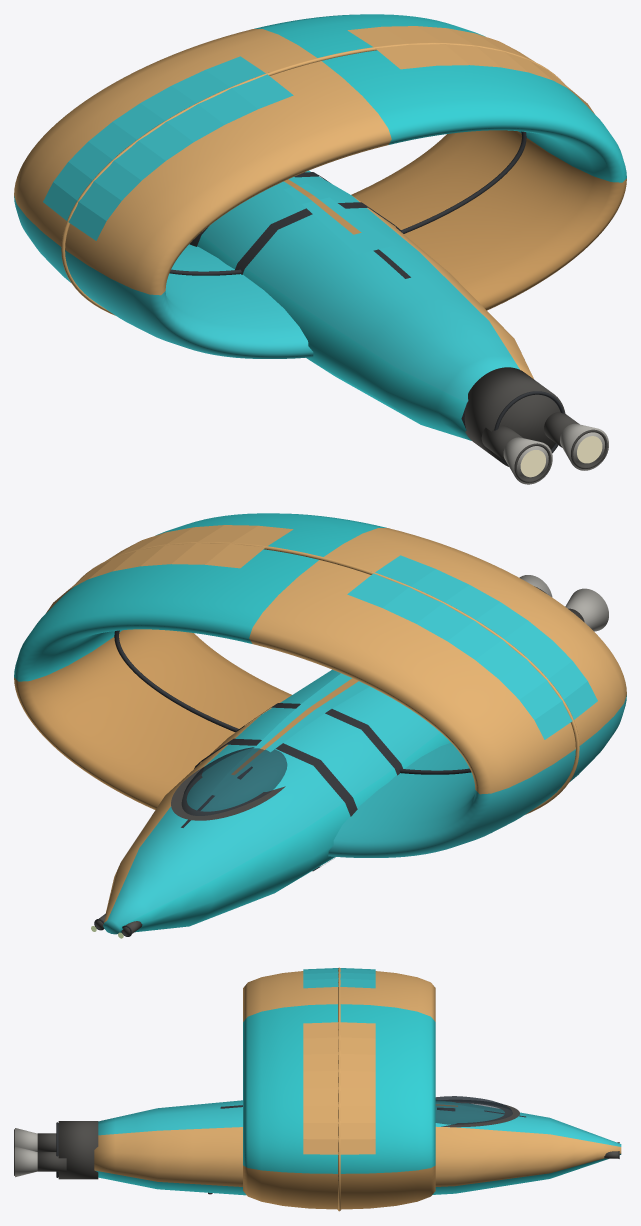
File: Ship_Hooper_508807.glb
The picture shows the model from 3 angles, top to bottom: view 1: azimuth 30°, elevation 25°; view 2: azimuth 150°, elevation 25°; view 3: azimuth 270°, elevation 25°; orthographic projection. The views are drawn at different scales.
Parts seen in each view (by area): view 1: Hoop_MainStructuralRing_YAxisHole_ElongatedY_LowerMidpointAt, Fuselage_MainCenteredHull_CenterOfMassAtOrigin, PaintHoopQuadrant_02_InsetPanel, PaintHoopQuadrant_01_InsetPanel, EngineBlock_AftHullIntegratedMountPlate, PaintFuselage_DorsalPrimaryBlade, Hoop_OuterArmorRaisedRim, Hoop_InnerLip_DarkInsetRing, EngineEmitter, FuselagePanelRing_02_InsetBand, EngineBell_Left_AftHullBurnishedNozzle, EngineBell_Right_AftHullBurnishedNozzle (+1 smaller); view 2: Hoop_MainStructuralRing_YAxisHole_ElongatedY_LowerMidpointAt, Fuselage_MainCenteredHull_CenterOfMassAtOrigin, PaintHoopQuadrant_02_InsetPanel, PaintHoopQuadrant_01_InsetPanel, CanopyGlass_LowForwardPodDome, PaintFuselage_DorsalPrimaryBlade, Hoop_OuterArmorRaisedRim, CanopyFrame_LowInsetOvalRim, FuselagePanelRing_04_InsetBand, Hoop_InnerLip_DarkInsetRing, EngineBell_Left_AftHullBurnishedNozzle, FuselagePanelRing_02_InsetBand (+1 smaller); view 3: Hoop_MainStructuralRing_YAxisHole_ElongatedY_LowerMidpointAt, Fuselage_MainCenteredHull_CenterOfMassAtOrigin, PaintHoopQuadrant_01_InsetPanel, EngineBlock_AftHullIntegratedMountPlate, CanopyGlass_LowForwardPodDome, PaintHoopQuadrant_02_InsetPanel, Hoop_OuterArmorRaisedRim, CanopyFrame_LowInsetOvalRim, EngineBell_Right_AftHullBurnishedNozzle, EngineThroat_Right_AftHullDarkSocket, EngineBell_Left_AftHullBurnishedNozzle, EngineThroat_Left_AftHullDarkSocket.
Boxes of the visible parts, <box> form: Hoop_MainStructuralRing_YAxisHole_ElongatedY_LowerMidpointAt: <box>14,14,626,358</box>; Fuselage_MainCenteredHull_CenterOfMassAtOrigin: <box>197,170,533,440</box>; PaintHoopQuadrant_02_InsetPanel: <box>43,56,293,240</box>; PaintHoopQuadrant_01_InsetPanel: <box>347,26,594,113</box>; EngineBlock_AftHullIntegratedMountPlate: <box>464,367,565,466</box>; PaintFuselage_DorsalPrimaryBlade: <box>277,177,396,254</box>; Hoop_OuterArmorRaisedRim: <box>61,42,564,315</box>; Hoop_InnerLip_DarkInsetRing: <box>169,131,526,275</box>; EngineEmitter: <box>520,436,602,477</box>; FuselagePanelRing_02_InsetBand: <box>235,202,401,274</box>; EngineBell_Left_AftHullBurnishedNozzle: <box>503,437,552,484</box>; EngineBell_Right_AftHullBurnishedNozzle: <box>560,423,608,470</box>; Hoop_MainStructuralRing_YAxisHole_ElongatedY_LowerMidpointAt: <box>14,513,626,857</box>; Fuselage_MainCenteredHull_CenterOfMassAtOrigin: <box>103,669,450,934</box>; PaintHoopQuadrant_02_InsetPanel: <box>347,555,597,739</box>; PaintHoopQuadrant_01_InsetPanel: <box>46,525,293,612</box>; CanopyGlass_LowForwardPodDome: <box>181,747,287,815</box>; PaintFuselage_DorsalPrimaryBlade: <box>210,673,369,795</box>; Hoop_OuterArmorRaisedRim: <box>76,541,579,814</box>; CanopyFrame_LowInsetOvalRim: <box>171,767,285,820</box>; FuselagePanelRing_04_InsetBand: <box>194,738,357,871</box>; Hoop_InnerLip_DarkInsetRing: <box>114,630,471,774</box>; EngineBell_Left_AftHullBurnishedNozzle: <box>565,588,608,631</box>; FuselagePanelRing_02_InsetBand: <box>237,703,402,775</box>; Hoop_MainStructuralRing_YAxisHole_ElongatedY_LowerMidpointAt: <box>243,971,435,1209</box>; Fuselage_MainCenteredHull_CenterOfMassAtOrigin: <box>94,1100,621,1195</box>; PaintHoopQuadrant_01_InsetPanel: <box>303,1022,375,1154</box>; EngineBlock_AftHullIntegratedMountPlate: <box>58,1121,98,1179</box>; CanopyGlass_LowForwardPodDome: <box>435,1096,512,1124</box>; PaintHoopQuadrant_02_InsetPanel: <box>303,968,375,988</box>; Hoop_OuterArmorRaisedRim: <box>338,967,340,1211</box>; CanopyFrame_LowInsetOvalRim: <box>441,1100,519,1127</box>; EngineBell_Right_AftHullBurnishedNozzle: <box>15,1146,37,1177</box>; EngineThroat_Right_AftHullDarkSocket: <box>37,1152,66,1171</box>; EngineBell_Left_AftHullBurnishedNozzle: <box>15,1128,37,1151</box>; EngineThroat_Left_AftHullDarkSocket: <box>37,1133,56,1151</box>.
Bounding box in the file's own units: 4.15 × 2.13 × 6.3.
